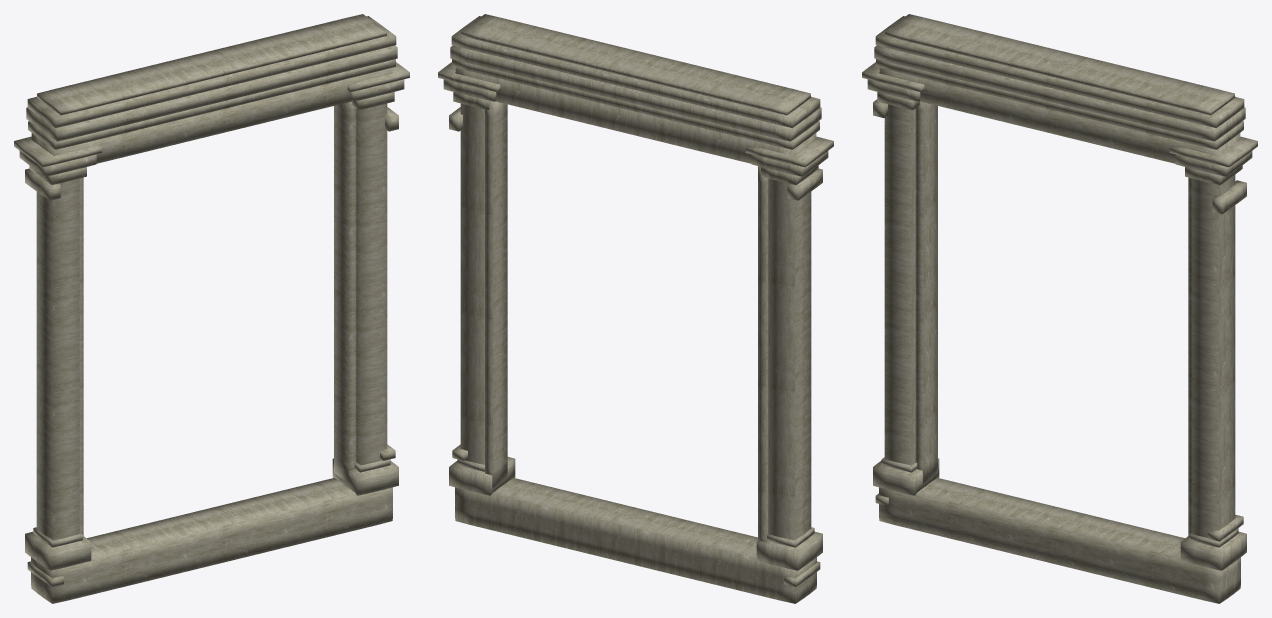
File: energetik_facade_bay.glb
3 renders of one model, left to right at view 1: azimuth 30°, elevation 25°; view 2: azimuth 150°, elevation 25°; view 3: azimuth 330°, elevation 25°, orthographic.
Visible parts, largest first — view 1: Energetik_Facade_Bay; view 2: Energetik_Facade_Bay; view 3: Energetik_Facade_Bay.
Part boxes in pixels (x1,y1,x2,y2): Energetik_Facade_Bay: (14,14,409,603); Energetik_Facade_Bay: (438,14,833,603); Energetik_Facade_Bay: (862,14,1257,603).
Bounding box in the file's own units: 7.31 × 9.38 × 1.08.
1 material, 1 textured.
